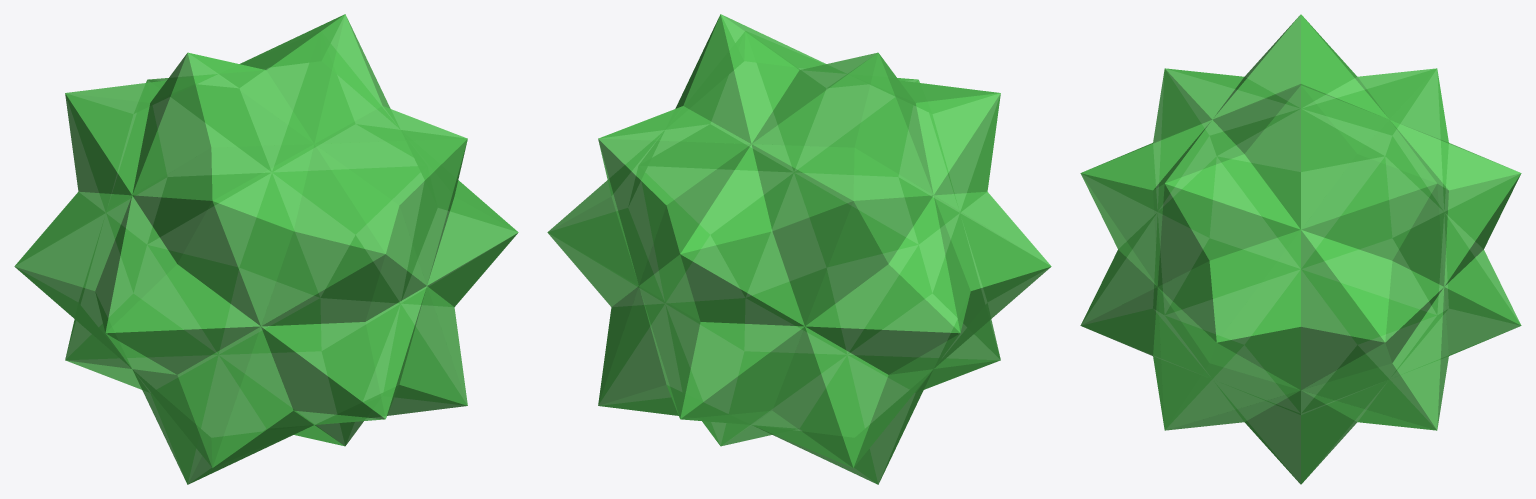
File: fractalrhombicosacron0.glb
3 views of the same model, side by side, from view 1: azimuth 30°, elevation 25°; view 2: azimuth 150°, elevation 25°; view 3: azimuth 270°, elevation 25° (orthographic). The views are drawn at different scales.
Bounding box in the file's own units: 11.3 × 11.3 × 11.3.
